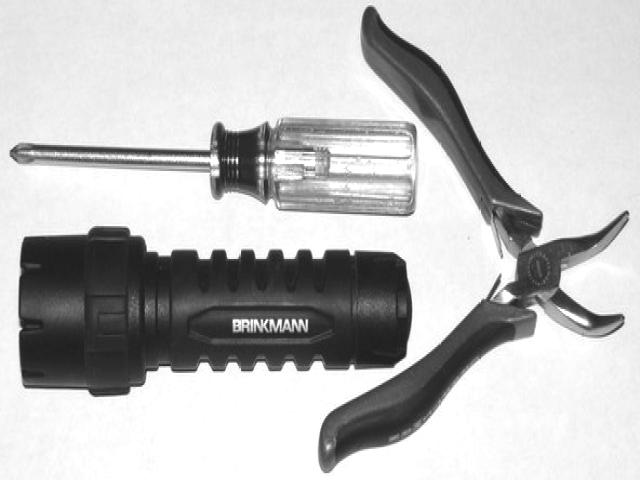Needle-nose pliers: (319, 10, 629, 470)
Screwdriver: (10, 118, 416, 215)
